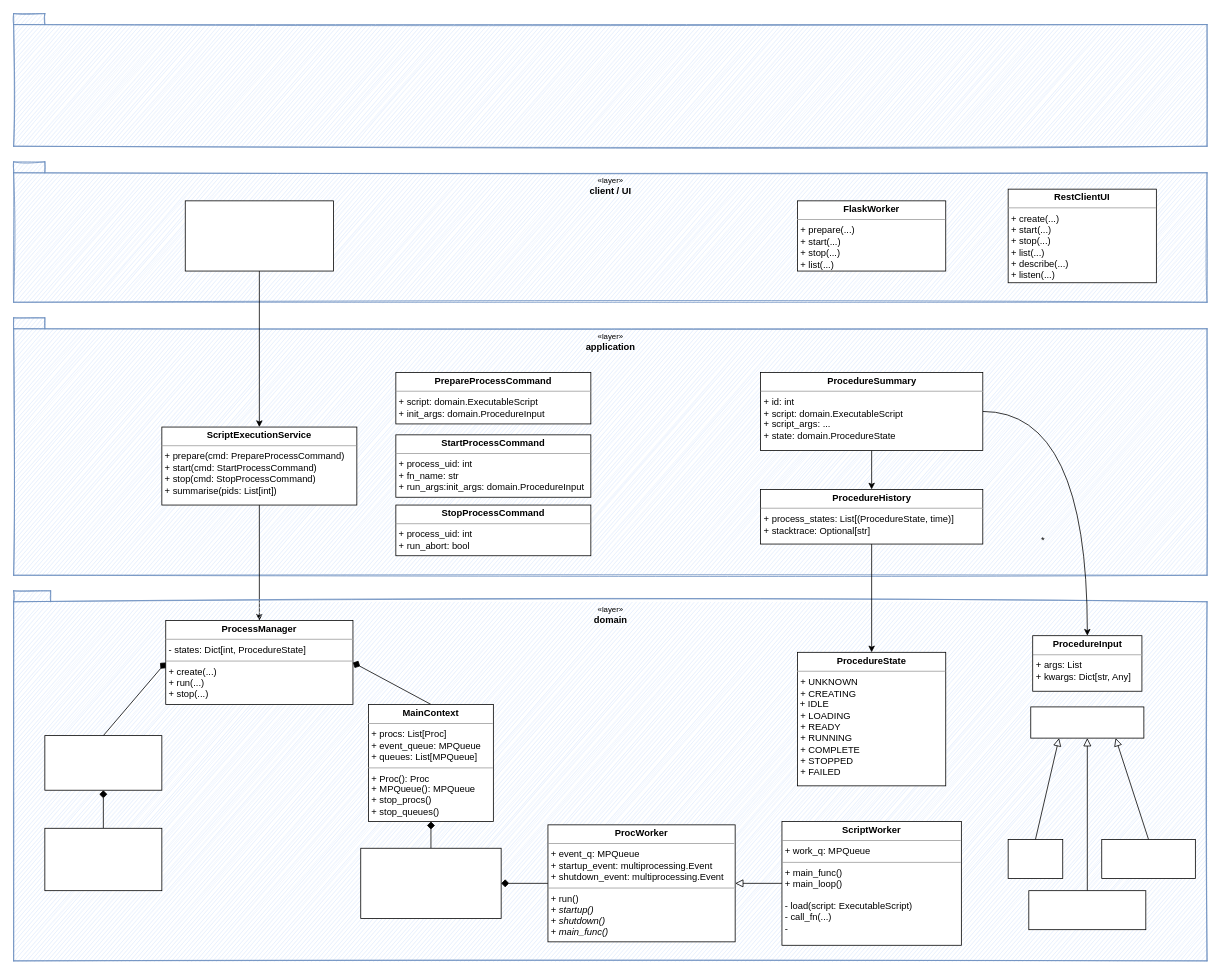
Some shapes in this 1221 by 975 pixel diagram are drawn without their labels. The centre of each missing label's shape, as x and y in pixels:
"EmbeddedStringScript ..." belongs at (x=1087, y=910).
"Environment + env_id: str + site_packages: str ..." belongs at (x=103, y=859).
"EnvironmentManager + create_env(...) + delete_env(...)" belongs at (x=103, y=762).
"ExecutableScript" belongs at (x=1087, y=722).
"FilesystemScript ..." belongs at (x=1148, y=859).
"GitScript ..." belongs at (x=1035, y=859).
"Proc + proc: ProcWorker + full_stop() + terminate()" belongs at (x=430, y=882).
"ScriptExecutionServiceWorker + prepare(...) + start(...) + stop(...) + list(...)" belongs at (x=258, y=235).
"«layer» infrastructure" belongs at (x=610, y=79).
